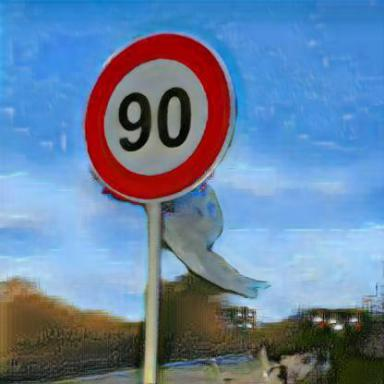Speed_limit_90: (87, 36, 232, 200)
